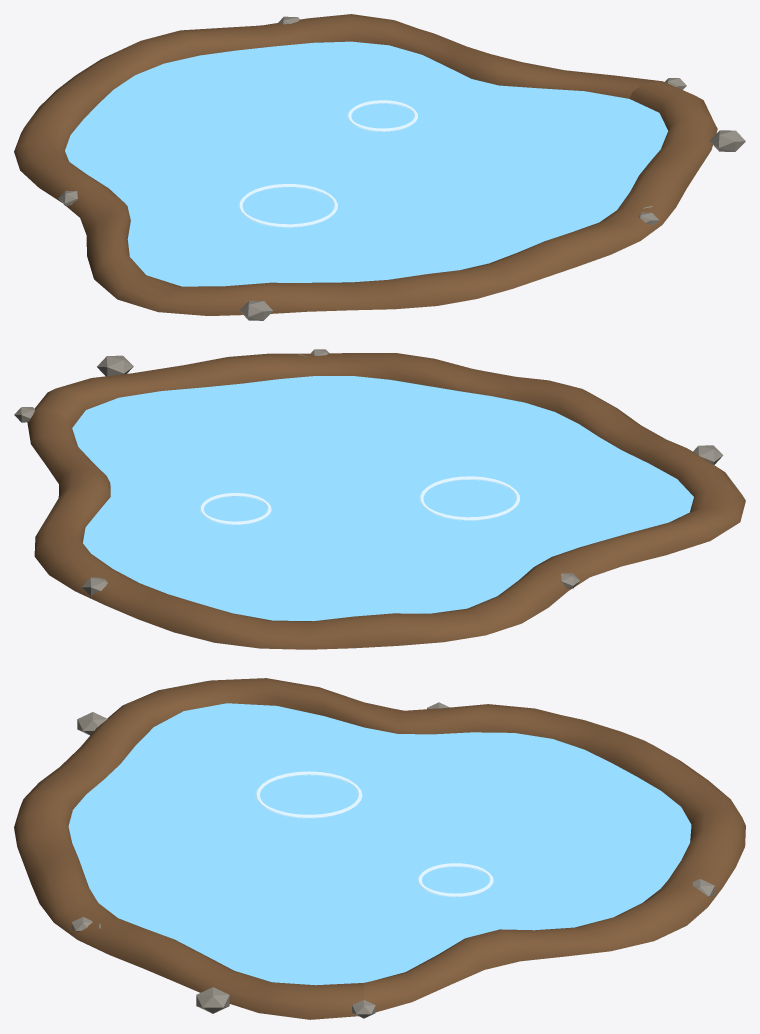
File: puddle3d.926a66b2.glb
3 renders of one model, top to bottom at view 1: azimuth 30°, elevation 25°; view 2: azimuth 150°, elevation 25°; view 3: azimuth 270°, elevation 25°, orthographic. The views are drawn at different scales.
Visible parts, largest first — view 1: puddle; view 2: puddle; view 3: puddle.
Boxes of the visible parts, x1=… form: puddle: x1=14, y1=14, x2=745, y2=320; puddle: x1=14, y1=349, x2=745, y2=649; puddle: x1=14, y1=678, x2=745, y2=1019.
Size of the model in its own units: 2.16 by 0.0636 by 2.
